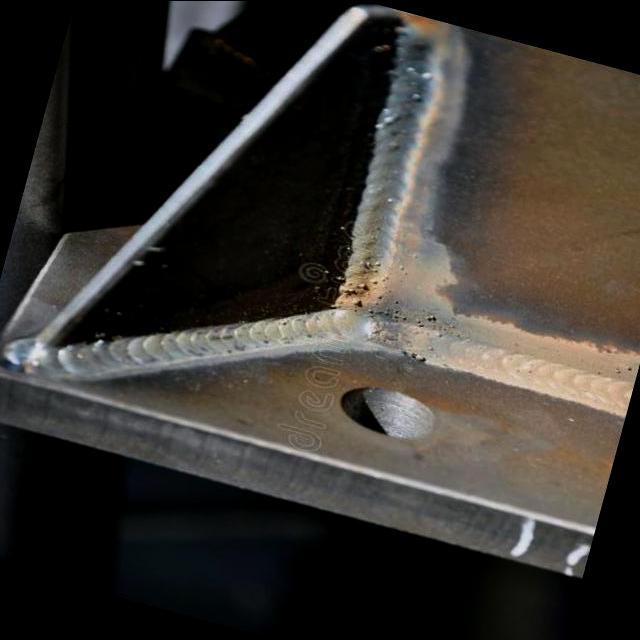defect: (341, 251, 411, 325), (394, 346, 435, 365), (411, 310, 441, 328)
